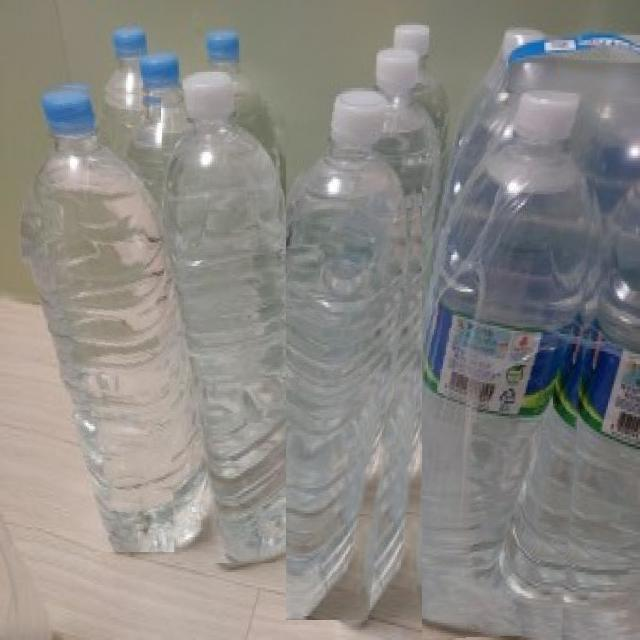plastic bottle: (422, 93, 602, 640), (22, 82, 204, 552), (286, 88, 427, 620), (160, 72, 301, 564)
